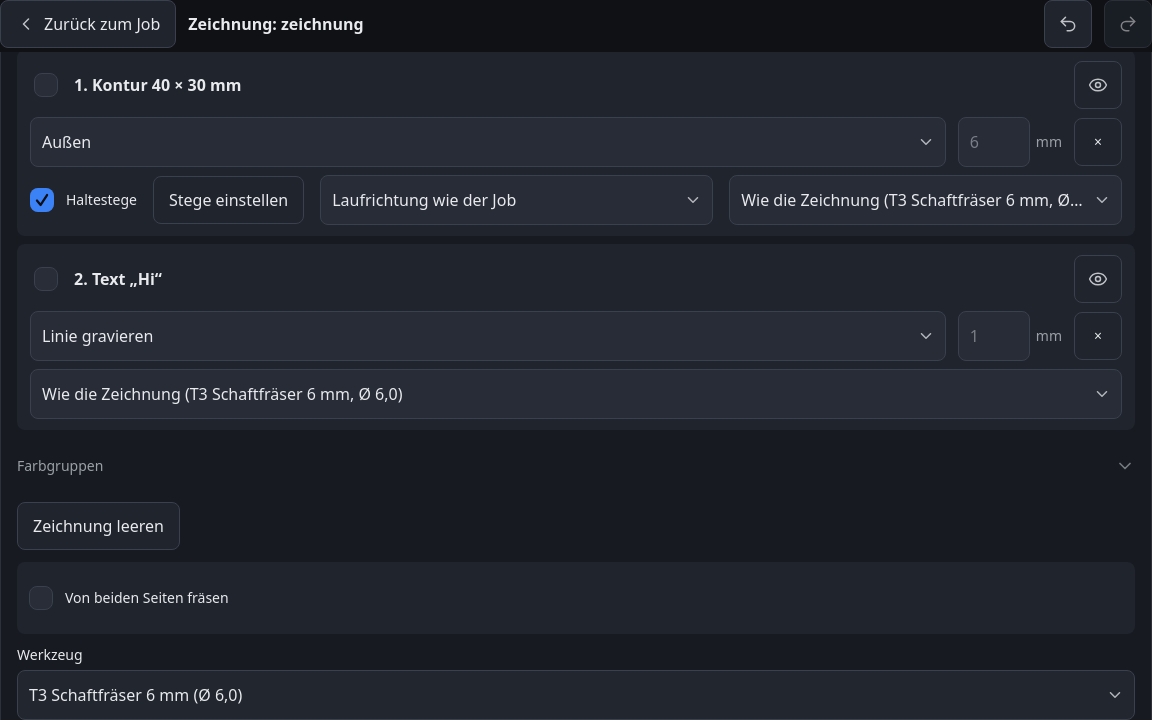
Test: the cutter of a part in the list › a choice that is no longer in the list stays visible in the field, with a word for it – never "wie die Zeichnung"
This screenshot has width=1152, height=720.
Select "T4 V-Fräser 60° (Ø 3,0)" in the dropdown named "Werkzeug von Teil 2" at (576, 394), box [31,370,1121,418]
(page scrolled)
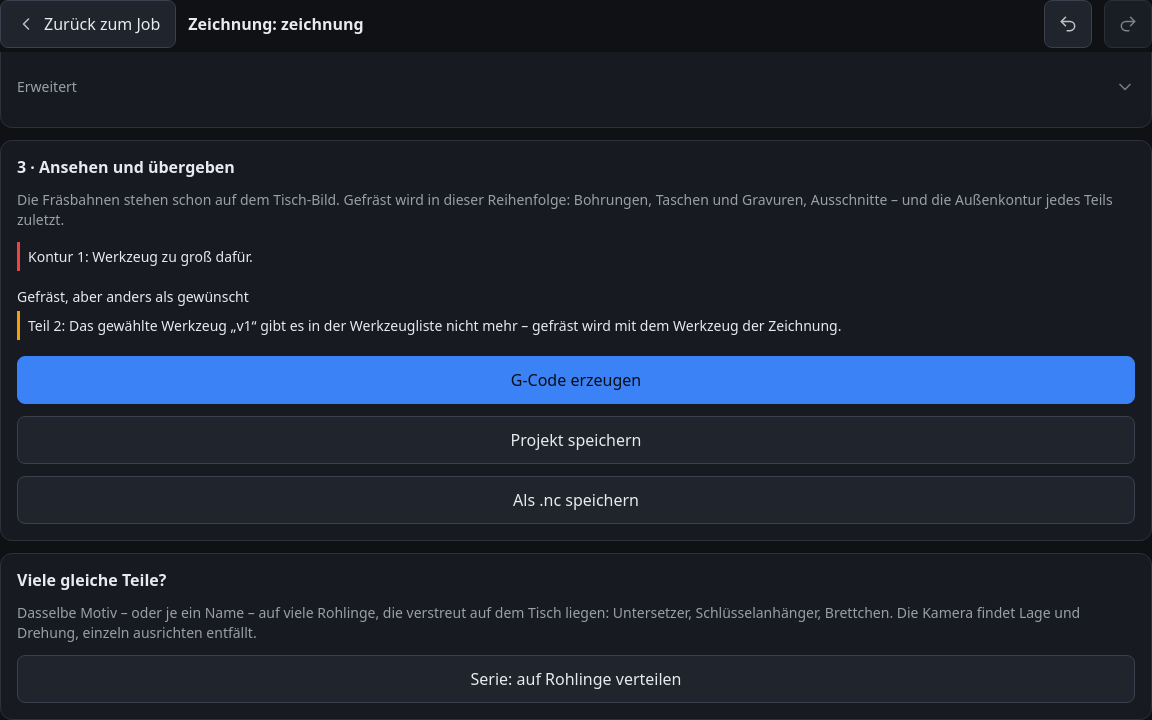
expect the button with test id "cam-hand-over" is enabled: met, box [17,356,1135,404]
expect the list item with test id "cam-difference" shows "Das gewählte Werkzeug „v1“ gibt es in der Werkzeugliste nicht mehr": met, box [28,316,842,335]
